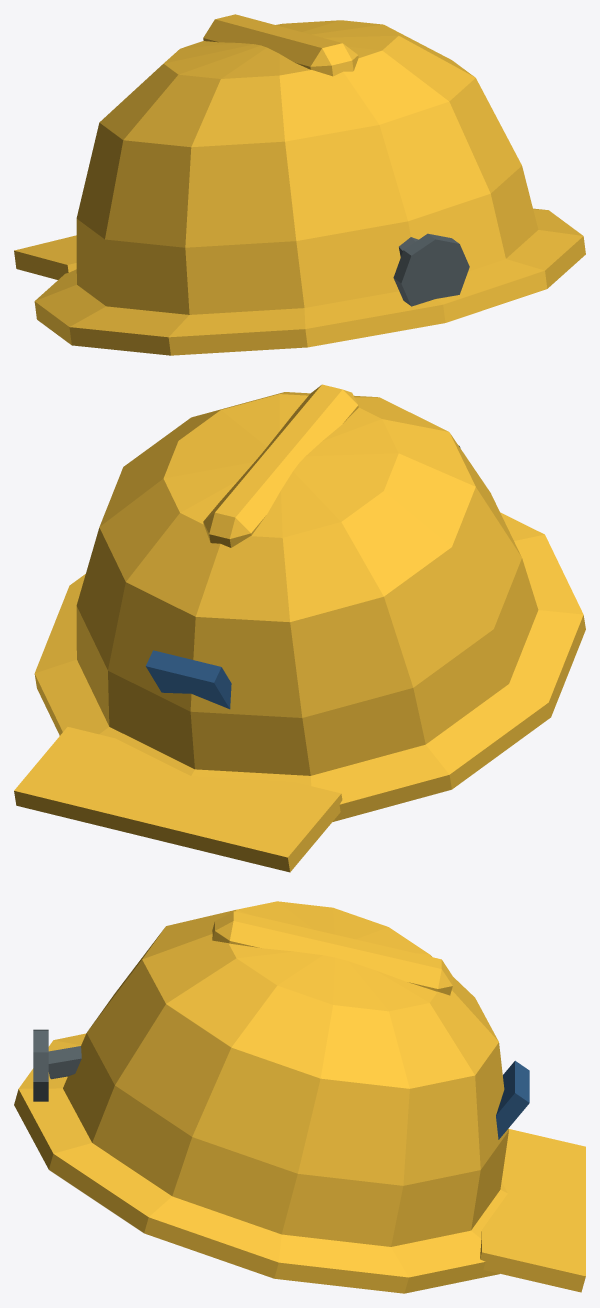
The model's file is sm_env_depot_hard_hat.glb.
3 views of the same model, one above another, from view 1: azimuth 30°, elevation 25°; view 2: azimuth 150°, elevation 25°; view 3: azimuth 270°, elevation 25° (orthographic). The views are drawn at different scales.
Parts seen in each view (by area): view 1: Hat, Brim, Ridge, PegPlate, Peak; view 2: Hat, Brim, Peak, Ridge, HatSticker; view 3: Hat, Brim, Peak, Ridge, HatSticker, PegPlate, Peg.
Boxes of the visible parts, x1,y1,x2,y2 form: Hat: [76, 20, 538, 314]; Brim: [34, 208, 585, 355]; Ridge: [203, 14, 358, 76]; PegPlate: [393, 233, 469, 306]; Peak: [14, 235, 76, 279]; Hat: [76, 392, 538, 775]; Brim: [34, 512, 585, 821]; Peak: [14, 727, 342, 872]; Ridge: [203, 384, 358, 547]; HatSticker: [145, 650, 231, 709]; Hat: [63, 901, 508, 1246]; Brim: [14, 1033, 507, 1293]; Peak: [480, 1129, 585, 1292]; Ridge: [212, 911, 452, 995]; HatSticker: [496, 1060, 529, 1139]; PegPlate: [33, 1029, 48, 1101]; Peg: [48, 1046, 81, 1079].
Size of the model in its own units: 0.35 by 0.224 by 0.3726.
